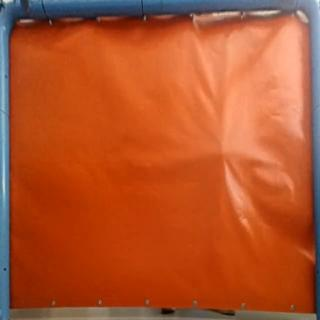Hit-hRxx: (216, 146, 230, 162)
